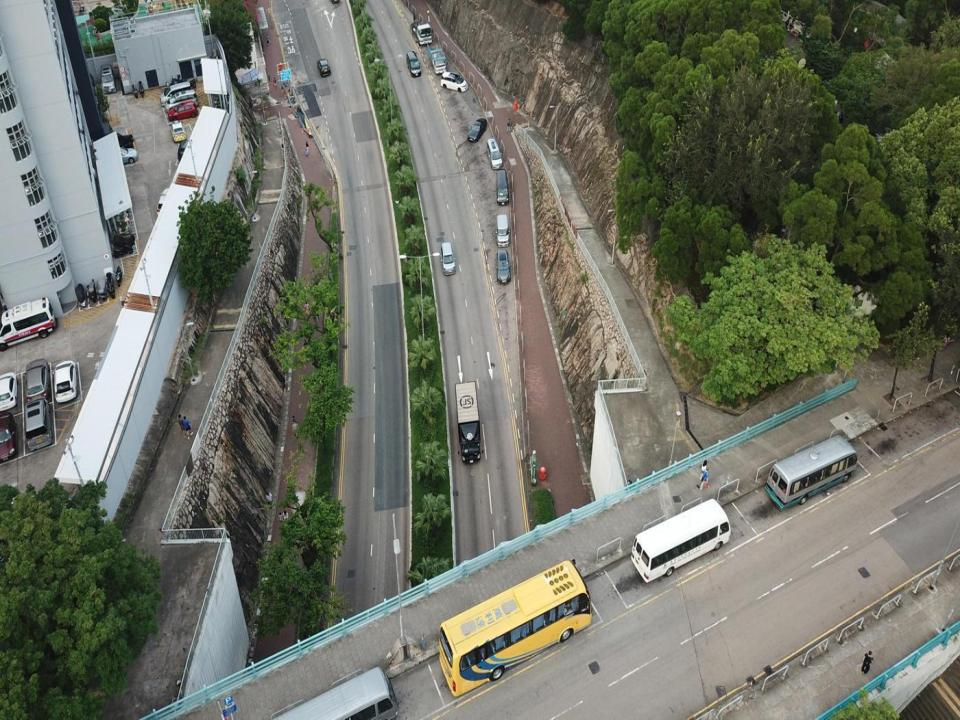bus: (439, 558, 591, 696), (630, 499, 730, 582), (765, 434, 857, 510), (270, 666, 398, 719)
car: (24, 358, 50, 402), (52, 360, 77, 403), (0, 411, 16, 462), (156, 187, 181, 218), (0, 372, 19, 410), (168, 100, 197, 122), (107, 147, 138, 164), (468, 118, 487, 142), (170, 120, 186, 142)
truck: (456, 381, 484, 463), (427, 41, 448, 73), (409, 20, 433, 46)
van: (0, 297, 56, 352), (23, 397, 52, 450), (159, 81, 193, 106), (165, 90, 198, 114), (495, 250, 512, 284), (440, 72, 468, 92), (485, 138, 502, 170), (440, 242, 456, 275), (100, 64, 117, 94), (496, 213, 510, 248), (496, 169, 509, 206), (406, 51, 422, 78), (178, 139, 194, 163), (317, 58, 330, 76)
